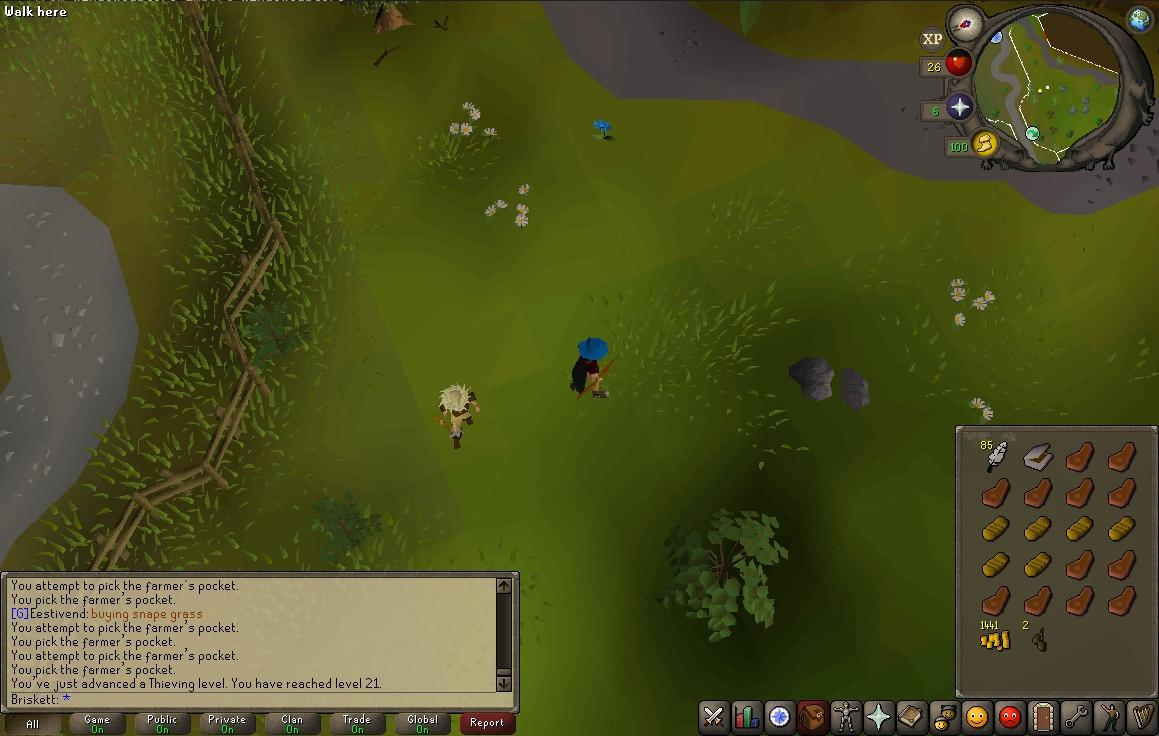Farmer: (437, 385, 481, 450)
